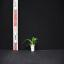leaf: (22, 39, 32, 43), (33, 38, 38, 44), (26, 43, 32, 46), (32, 37, 34, 43), (33, 42, 37, 45), (33, 44, 35, 45), (35, 43, 36, 44)
